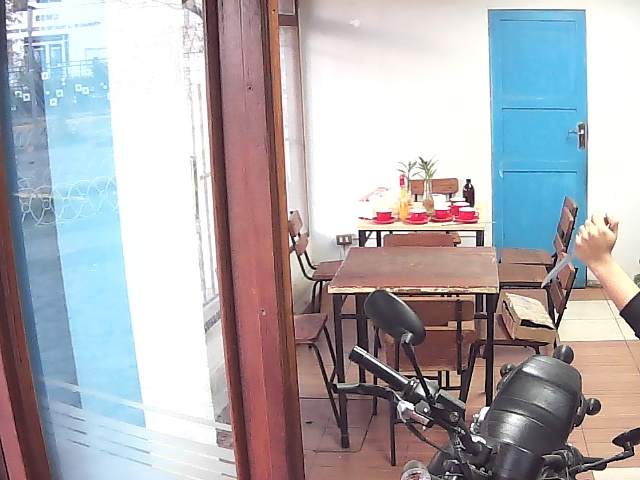cuchillo: (537, 200, 628, 294)
